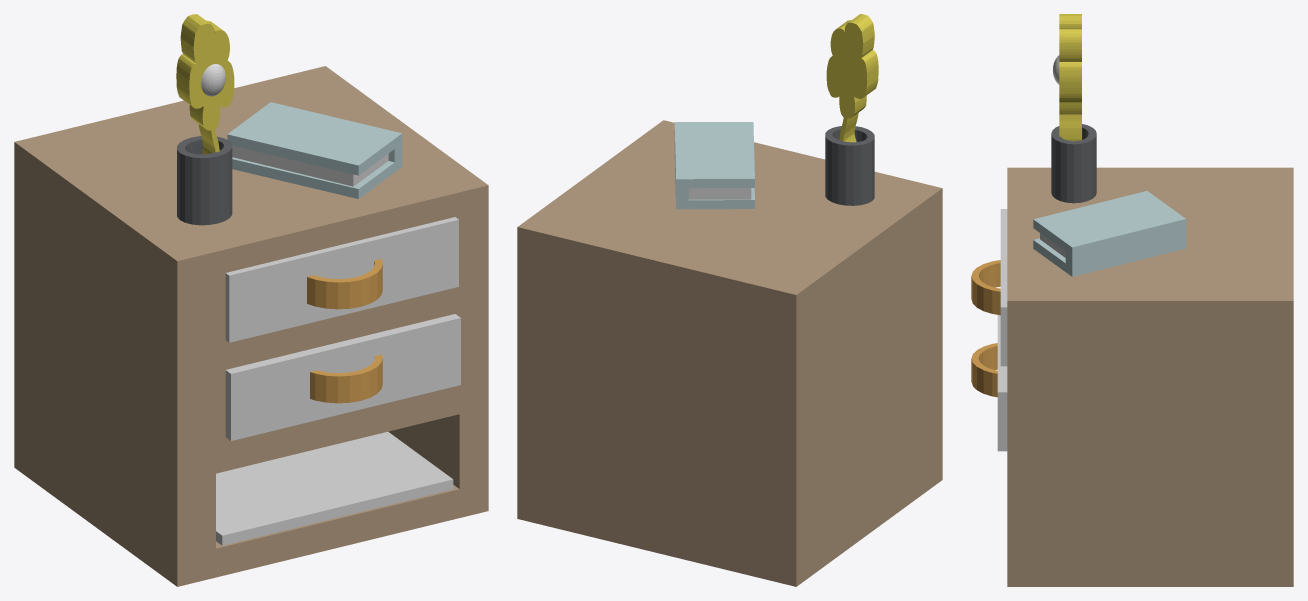
Rendered from MY FIRST PROJECT.glb.
3 views of the same model, side by side, from view 1: azimuth 30°, elevation 25°; view 2: azimuth 150°, elevation 25°; view 3: azimuth 270°, elevation 25° (orthographic). The views are drawn at different scales.
Parts seen in each view (by area): view 1: Mesh_Mesh_head_geo.001_lambert2SG.001; view 2: Mesh_Mesh_head_geo.001_lambert2SG.001; view 3: Mesh_Mesh_head_geo.001_lambert2SG.001.
Boxes of the visible parts, box(x1,y1,x2,y2) form: Mesh_Mesh_head_geo.001_lambert2SG.001: box(14, 14, 488, 586); Mesh_Mesh_head_geo.001_lambert2SG.001: box(517, 14, 942, 586); Mesh_Mesh_head_geo.001_lambert2SG.001: box(971, 14, 1293, 586).
Bounding box in the file's own units: 97 × 157 × 99.
